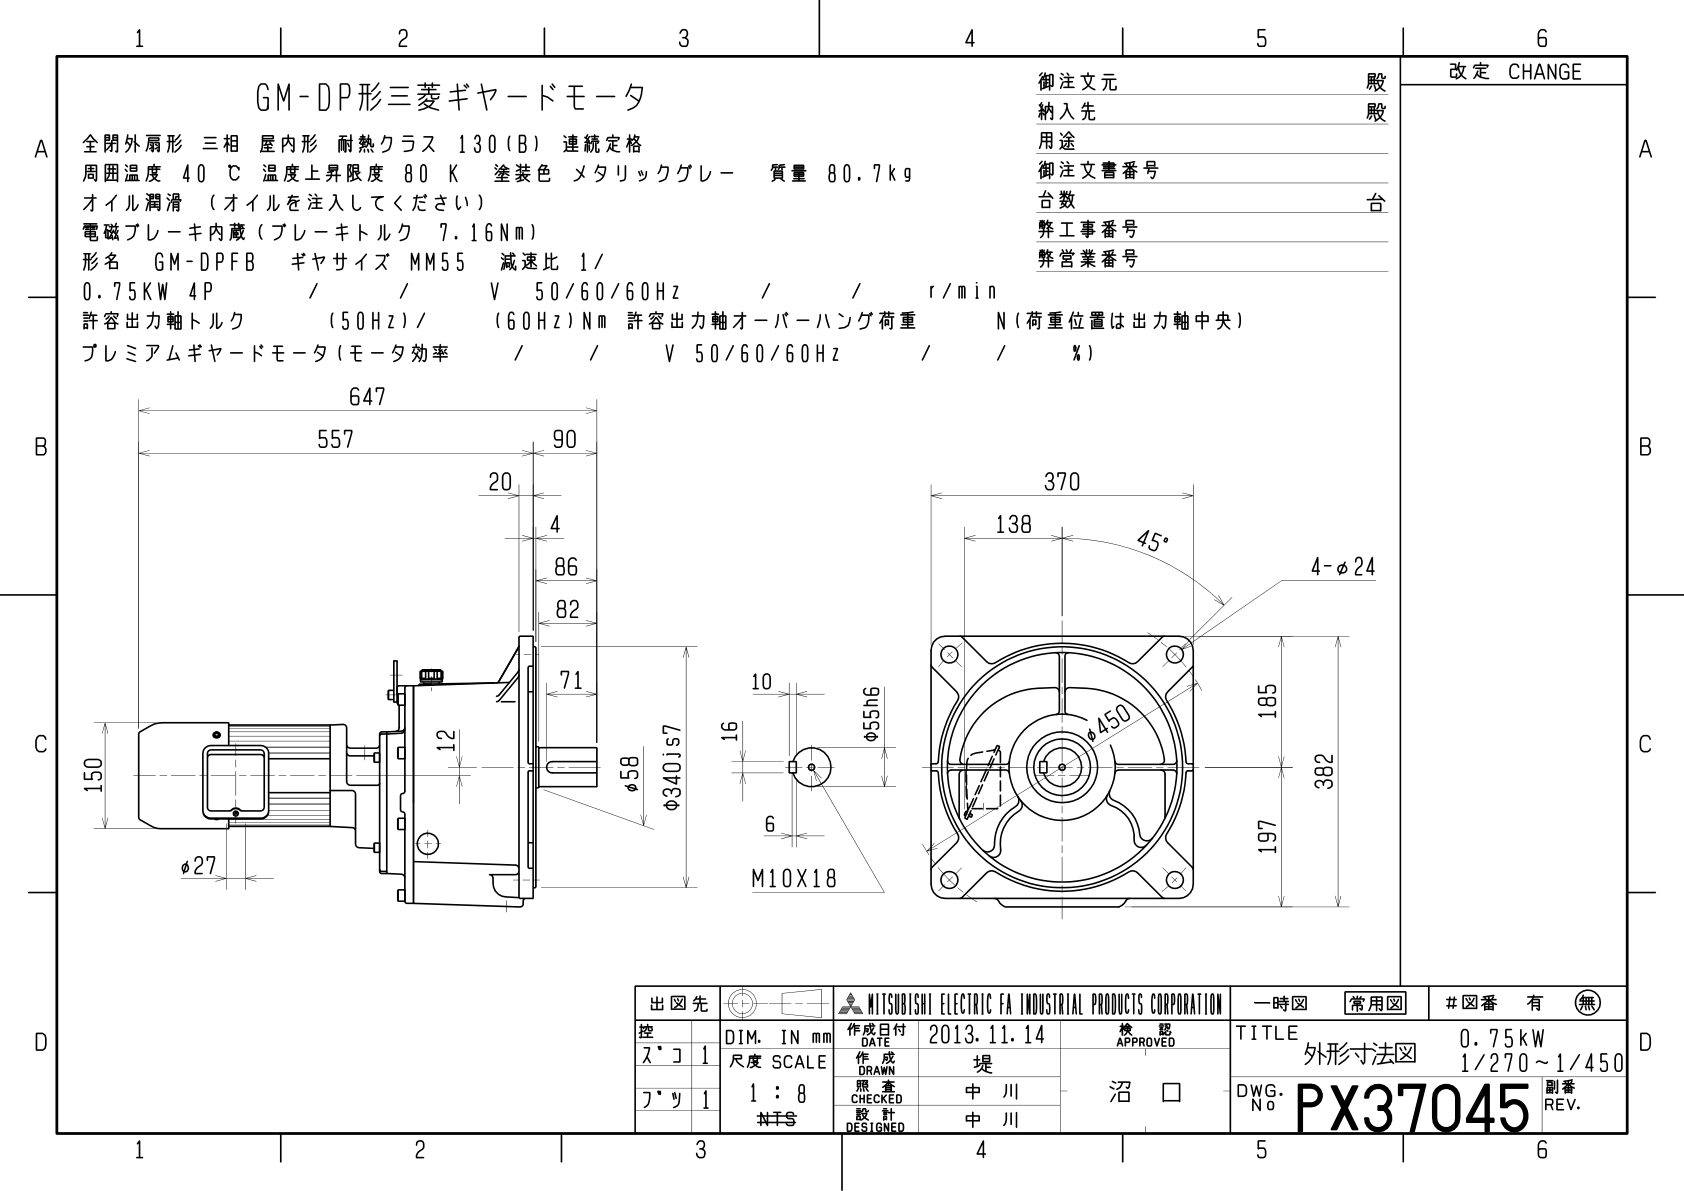GM_DP_屋内_三相_フランジ: (75, 375, 1385, 962)
